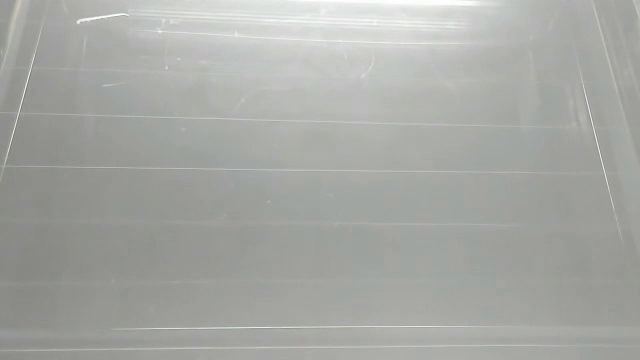alpha: (74, 10, 131, 27), (98, 75, 135, 93)
